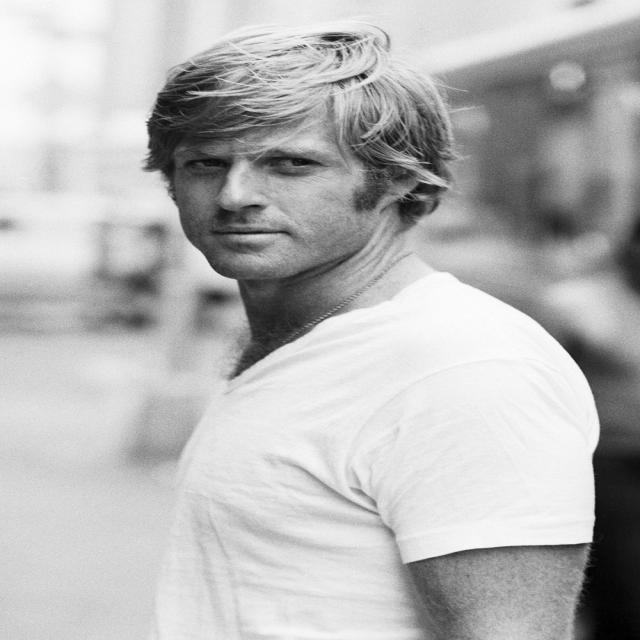mobile_phonerotation: (139, 20, 602, 638)
